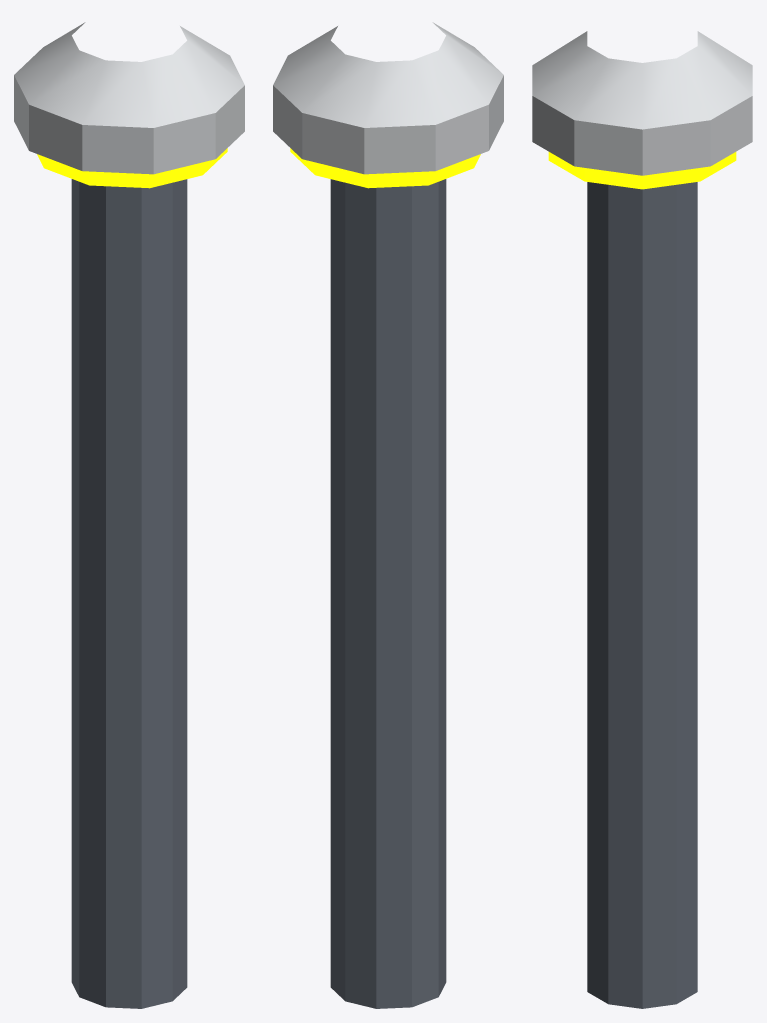
Rendered from ext_bollard_light_04.glb.
The picture shows the model from 3 angles, left to right: view 1: azimuth 30°, elevation 25°; view 2: azimuth 150°, elevation 25°; view 3: azimuth 270°, elevation 25°; orthographic projection.
Visible parts, largest first — view 1: Post, Head, Downlight; view 2: Post, Head, Downlight; view 3: Post, Head, Downlight.
Boxes of the visible parts, x1,y1,x2,y2 form: Post: (71,179,187,1008); Head: (14,22,244,174); Downlight: (37,148,227,188); Post: (330,179,446,1008); Head: (273,22,503,174); Downlight: (290,148,480,188); Post: (587,182,697,1008); Head: (532,31,752,175); Downlight: (548,152,736,189).
Size of the model in its own units: 0.2 by 0.9 by 0.1902.
